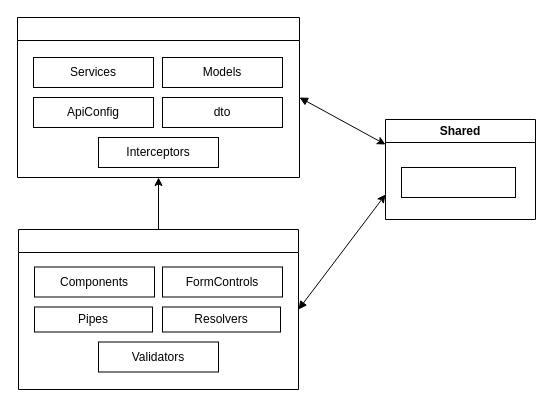
This 553x407 diagram has some shape labels left out. The box of each missing label's shape, as (x1, y1, x2, y2) in pixels:
Business & Remote: (16, 16, 300, 178)
Prezentační: (18, 228, 298, 390)
Utils: (400, 166, 516, 198)
